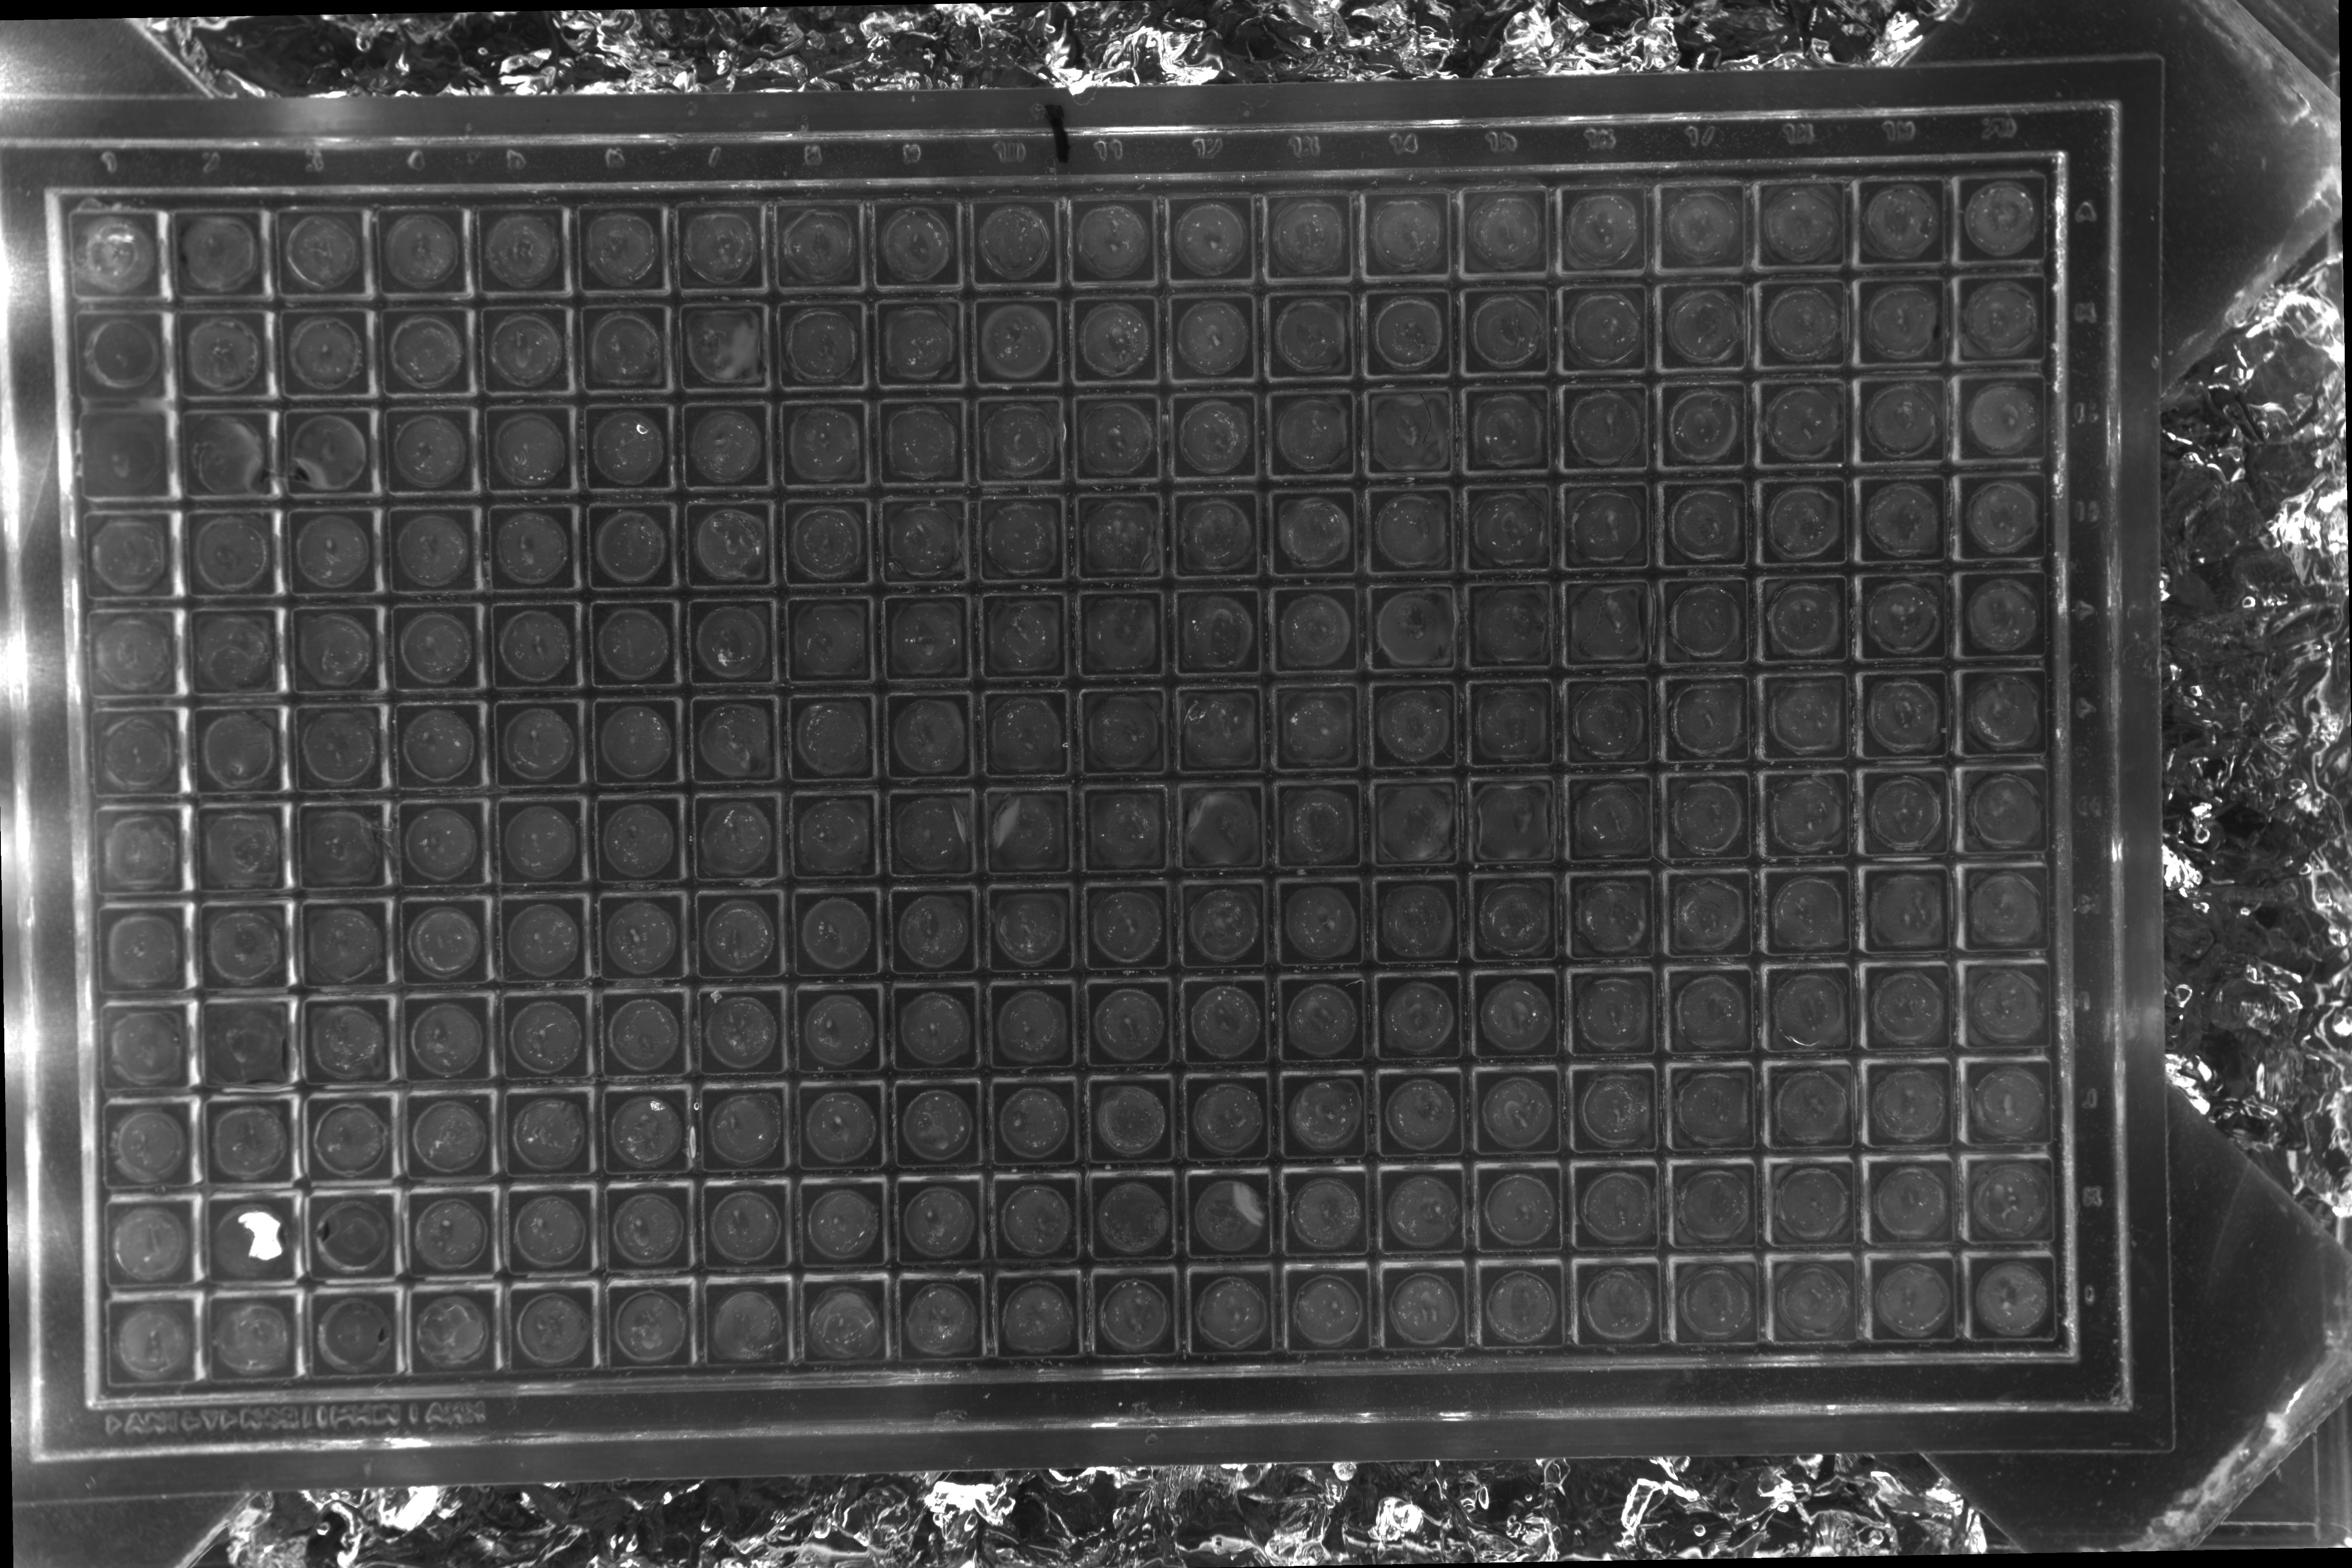WM_well: (399, 828, 488, 915), (493, 535, 583, 623), (789, 1018, 878, 1106), (1368, 1209, 1456, 1298), (198, 436, 285, 523), (205, 1120, 292, 1207), (294, 338, 381, 425), (303, 1216, 390, 1304), (392, 338, 479, 425), (595, 924, 682, 1011), (595, 1116, 682, 1204), (882, 142, 969, 229), (885, 534, 973, 621), (887, 1018, 975, 1106), (980, 142, 1067, 229), (1078, 142, 1165, 229), (1080, 1017, 1167, 1104), (1274, 726, 1361, 814), (1564, 822, 1652, 910), (1662, 822, 1750, 910), (1762, 628, 1850, 716), (1956, 1115, 2044, 1202), (1965, 129, 2053, 217), (2063, 227, 2151, 315)
